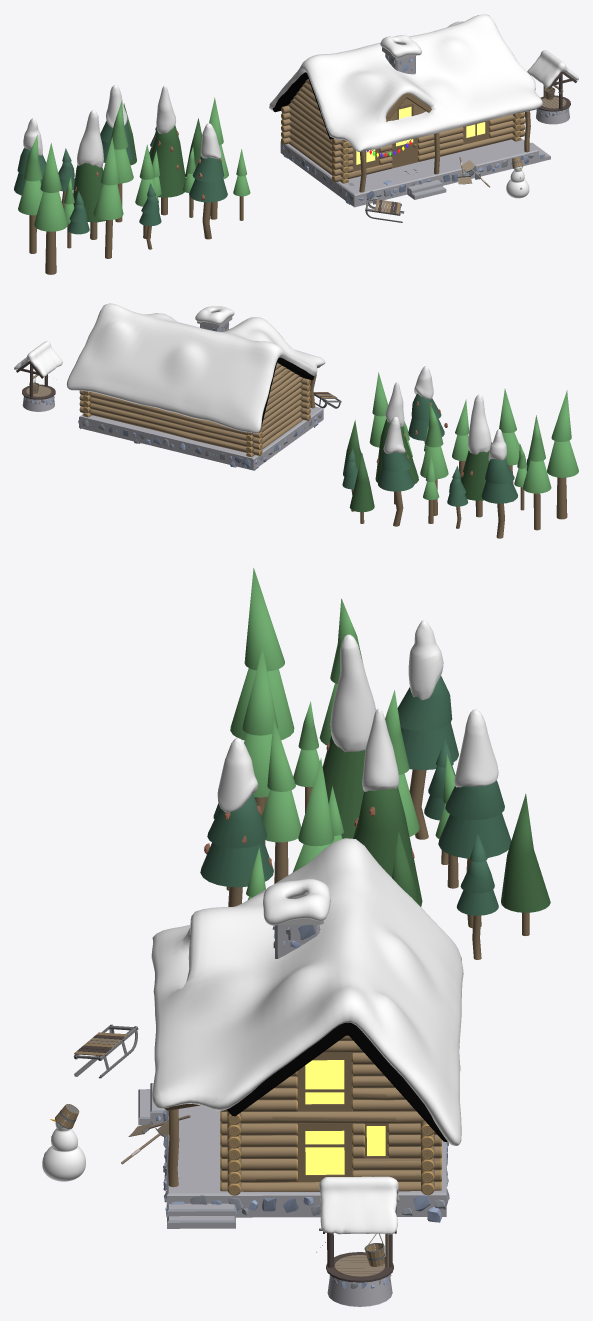
File: cabin-winter.glb
The picture shows the model from 3 angles, top to bottom: view 1: azimuth 30°, elevation 25°; view 2: azimuth 150°, elevation 25°; view 3: azimuth 270°, elevation 25°; orthographic projection. The views are drawn at different scales.
Visible parts, largest first — view 1: Snow1, Walls, pCube64, Trees:pCone13polySurface328, Trees:pCone23polySurface330, polySurface521, polySurface334, polySurface517, polySurface340, polySurface384, polySurface522, polySurface343 (+18 smaller); view 2: Snow1, Walls, pCube64, Trees:pCone23polySurface330, polySurface521, polySurface334, polySurface335, polySurface517, polySurface343, polySurface377, polySurface358, Trees:pCone13polySurface328 (+21 smaller); view 3: Snow1, Walls, pCube64, polySurface517, polySurface521, Trees:pCone13polySurface328, pCube2, polySurface335, Trees:pCone23polySurface330, polySurface377, polySurface520, polySurface384 (+22 smaller).
Boxes of the visible parts, x1=… form: Snow1: x1=269, y1=14, x2=542, y2=151; Walls: x1=281, y1=79, x2=525, y2=183; pCube64: x1=280, y1=138, x2=538, y2=207; Trees:pCone13polySurface328: x1=150, y1=125, x2=185, y2=197; Trees:pCone23polySurface330: x1=73, y1=163, x2=105, y2=222; polySurface521: x1=77, y1=110, x2=103, y2=167; polySurface334: x1=34, y1=191, x2=67, y2=231; polySurface517: x1=527, y1=50, x2=578, y2=87; polySurface340: x1=93, y1=184, x2=123, y2=219; polySurface384: x1=189, y1=178, x2=227, y2=202; polySurface522: x1=156, y1=85, x2=175, y2=133; polySurface343: x1=18, y1=180, x2=43, y2=215; Snow1: x1=66, y1=303, x2=325, y2=433; Walls: x1=79, y1=362, x2=310, y2=457; pCube64: x1=79, y1=406, x2=323, y2=470; Trees:pCone23polySurface330: x1=460, y1=450, x2=489, y2=500; polySurface521: x1=467, y1=394, x2=491, y2=454; polySurface334: x1=547, y1=440, x2=578, y2=477; polySurface335: x1=349, y1=453, x2=374, y2=512; polySurface517: x1=14, y1=341, x2=62, y2=376; polySurface343: x1=523, y1=460, x2=551, y2=493; polySurface377: x1=378, y1=468, x2=414, y2=491; polySurface358: x1=481, y1=481, x2=517, y2=503; Trees:pCone13polySurface328: x1=375, y1=419, x2=418, y2=483; Snow1: x1=151, y1=838, x2=463, y2=1145; Walls: x1=220, y1=1035, x2=441, y2=1195; pCube64: x1=166, y1=1105, x2=446, y2=1217; polySurface517: x1=319, y1=1176, x2=399, y2=1234; polySurface521: x1=330, y1=634, x2=375, y2=752; Trees:pCone13polySurface328: x1=353, y1=787, x2=422, y2=906; pCube2: x1=227, y1=1022, x2=447, y2=1141; polySurface335: x1=501, y1=793, x2=550, y2=912; Trees:pCone23polySurface330: x1=322, y1=735, x2=365, y2=838; polySurface377: x1=438, y1=813, x2=511, y2=858; polySurface520: x1=454, y1=709, x2=498, y2=787; polySurface384: x1=200, y1=841, x2=273, y2=887.
Bounding box in the file's own units: 42.25 × 10.09 × 17.54.
